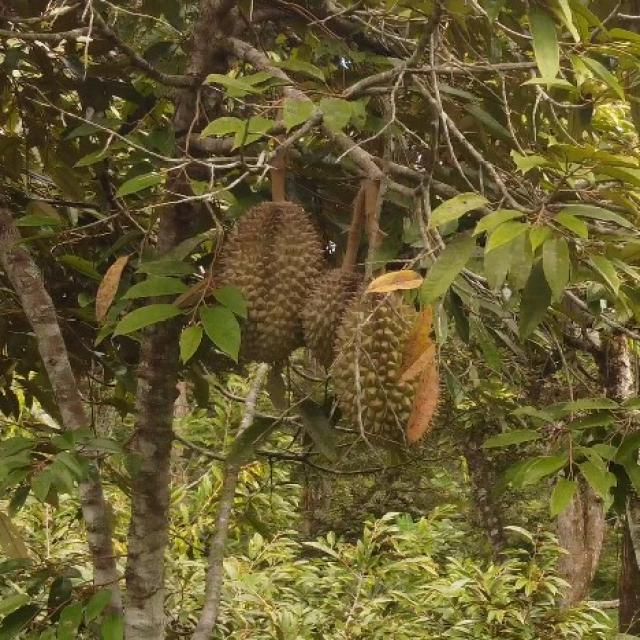mature: (215, 199, 322, 368), (330, 283, 432, 447), (298, 266, 370, 368)
